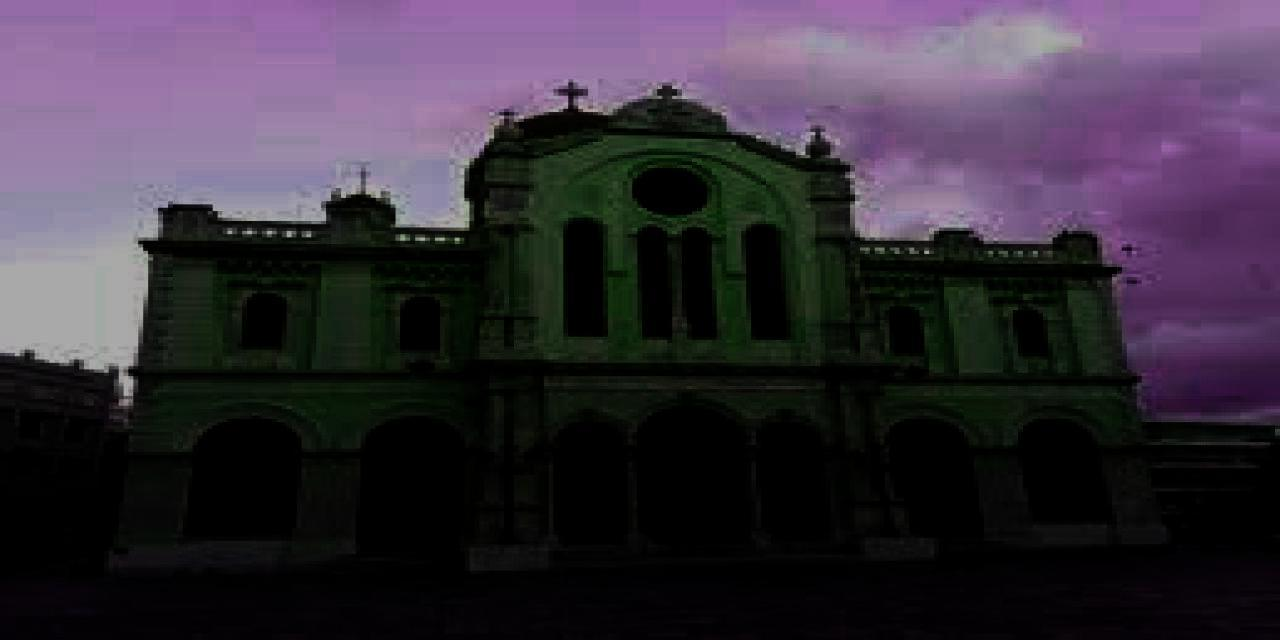Agios Minas: (112, 66, 1176, 579)
